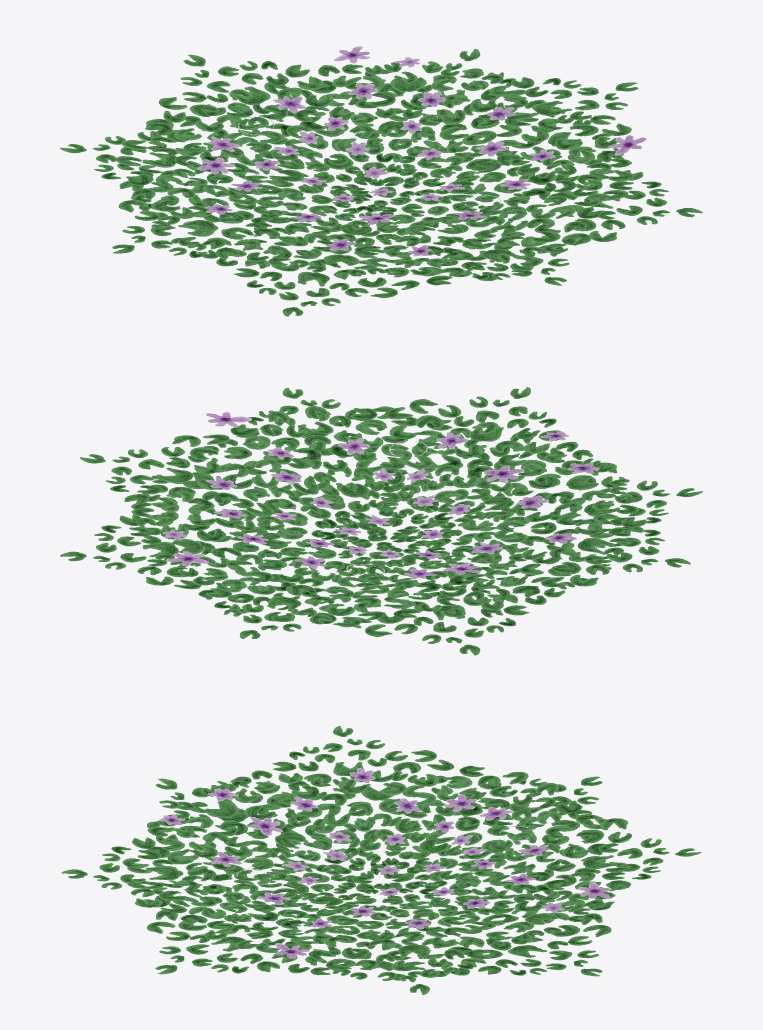
Rendered from Violet 1.fbx.
3 views of the same model, one above another, from view 1: azimuth 30°, elevation 25°; view 2: azimuth 150°, elevation 25°; view 3: azimuth 270°, elevation 25° (orthographic). The views are drawn at different scales.
Visible parts, largest first — view 1: Plane; view 2: Plane; view 3: Plane.
Boxes of the visible parts, left/top/right/bottom form: Plane: left=60, top=46, right=702, bottom=316; Plane: left=60, top=387, right=702, bottom=655; Plane: left=61, top=726, right=701, bottom=994.
Size of the model in its own units: 281 by 18.21 by 281.
